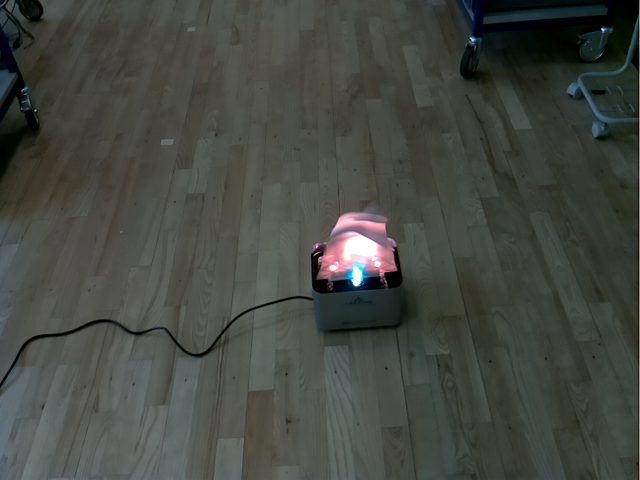fire: (314, 209, 398, 280)
